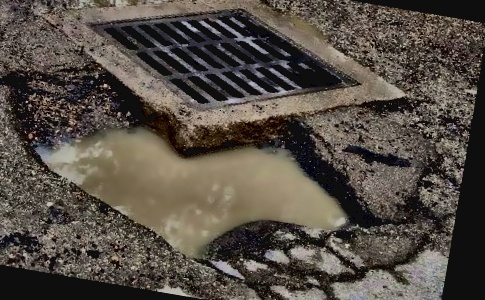pothole: (0, 48, 397, 290)
